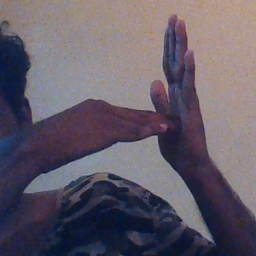Z: (93, 9, 211, 177)
